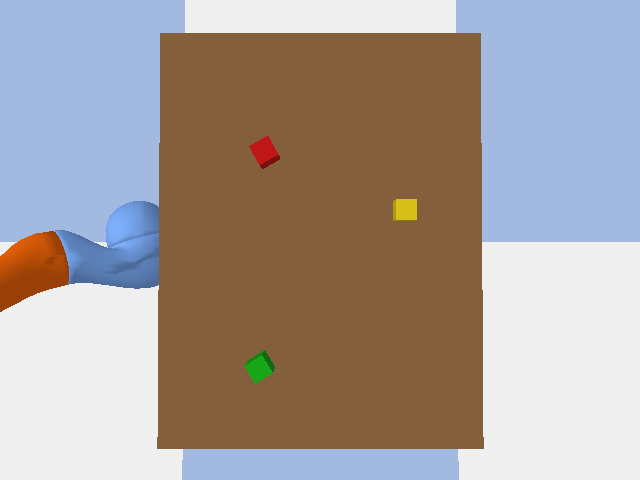green_obj: (244, 350, 274, 383)
red_obj: (249, 136, 279, 168)
yellow_obj: (393, 199, 416, 220)
